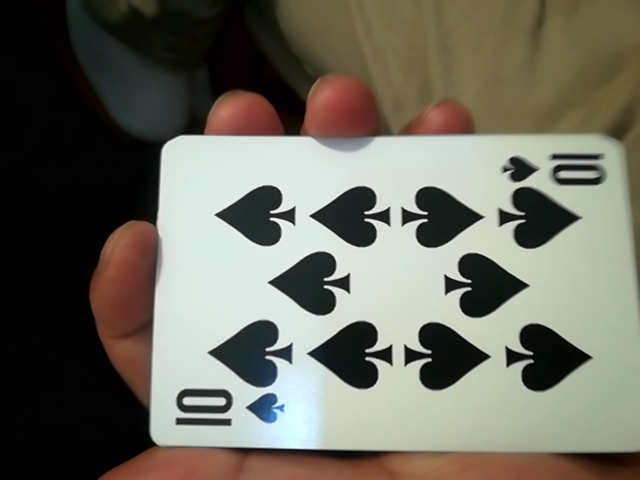ht 10: (133, 130, 621, 464)
